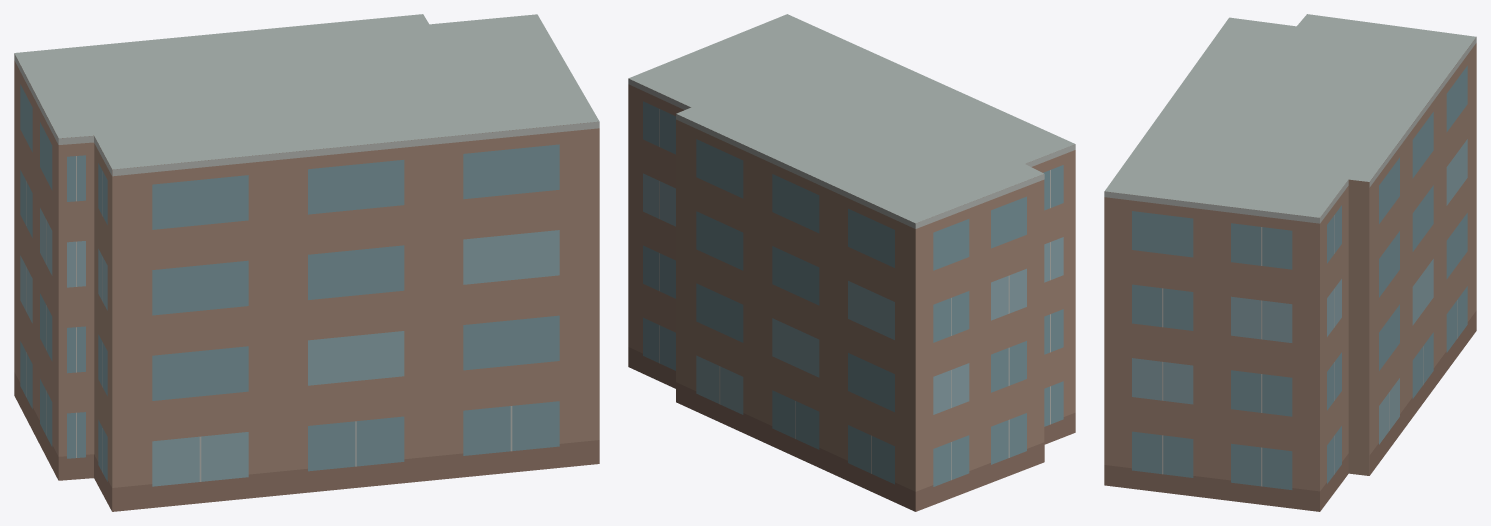
File: survey-upis-32488184.glb
3 views of the same model, side by side, from view 1: azimuth 30°, elevation 25°; view 2: azimuth 150°, elevation 25°; view 3: azimuth 270°, elevation 25° (orthographic). The views are drawn at different scales.
Parts seen in each view (by area): view 1: survey-upis-32488184.tmp; view 2: survey-upis-32488184.tmp; view 3: survey-upis-32488184.tmp.
Part boxes in pixels (bbox=[...]): survey-upis-32488184.tmp: bbox=[14, 14, 599, 511]; survey-upis-32488184.tmp: bbox=[628, 14, 1075, 511]; survey-upis-32488184.tmp: bbox=[1104, 14, 1476, 511].
Bounding box in the file's own units: 18.37 × 12.35 × 14.17.
